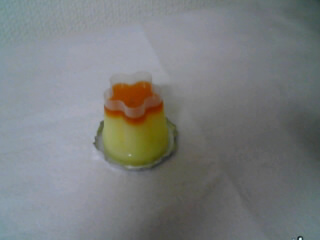001_classes: (85, 73, 185, 171)
